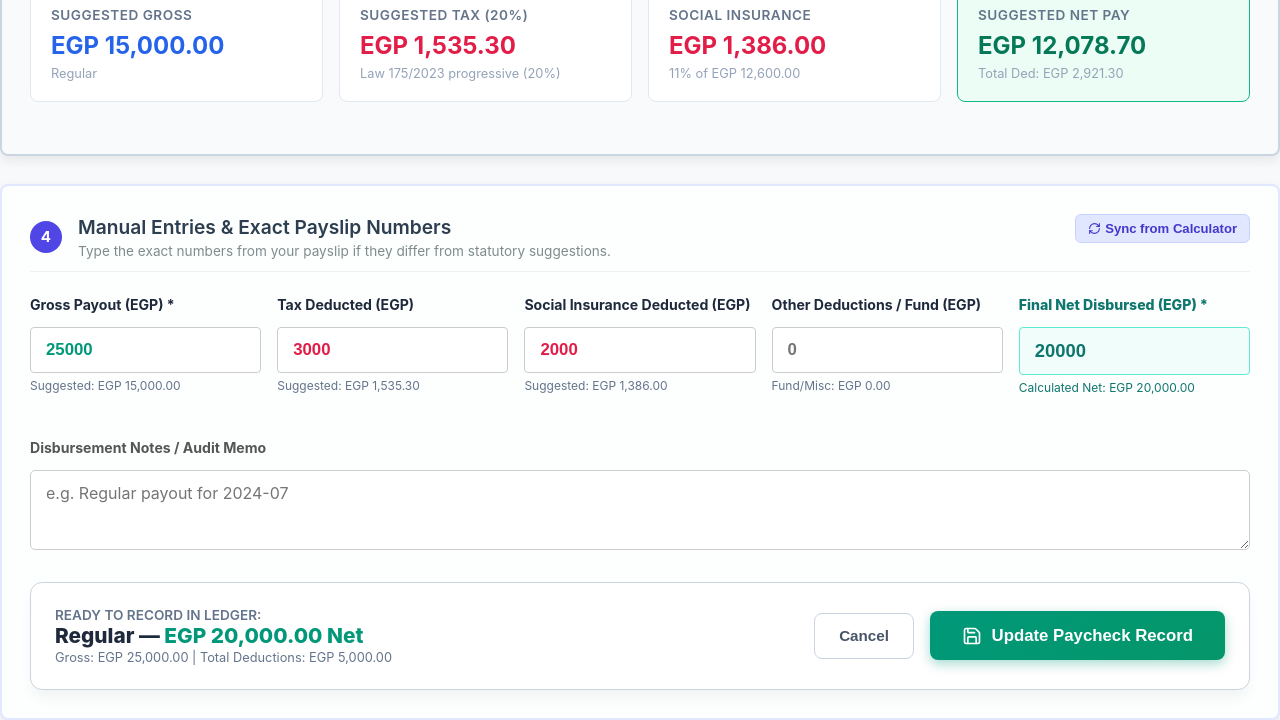
Test: Step 5B.2: [AUD-TEST-002] PaycheckFormPage User Journey & Statutory Verification › 8. submits updated paycheck data via updatePaycheck in edit mode
(page scrolled)
Click the button "Update Paycheck Record": (1077, 636) x1=930 y1=611 x2=1225 y2=660
(page scrolled)
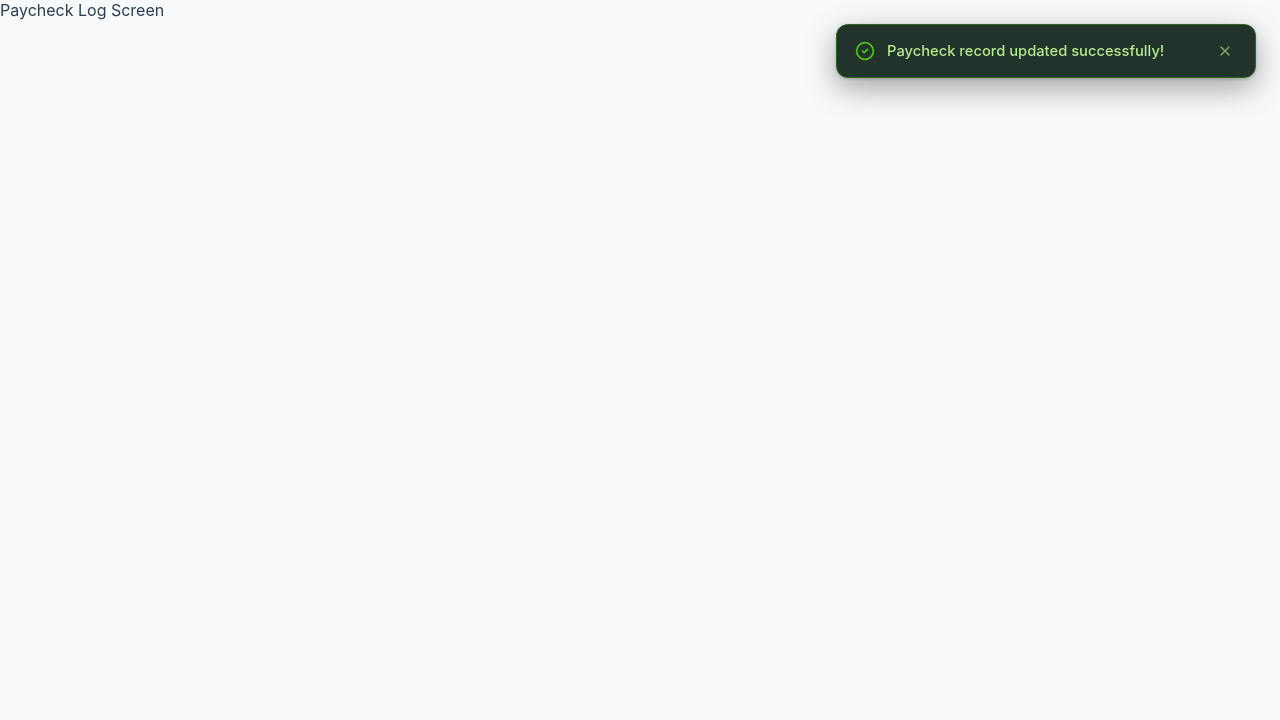
Expected: the text "Paycheck Log Screen" is shown, x1=0 y1=0 x2=164 y2=20
